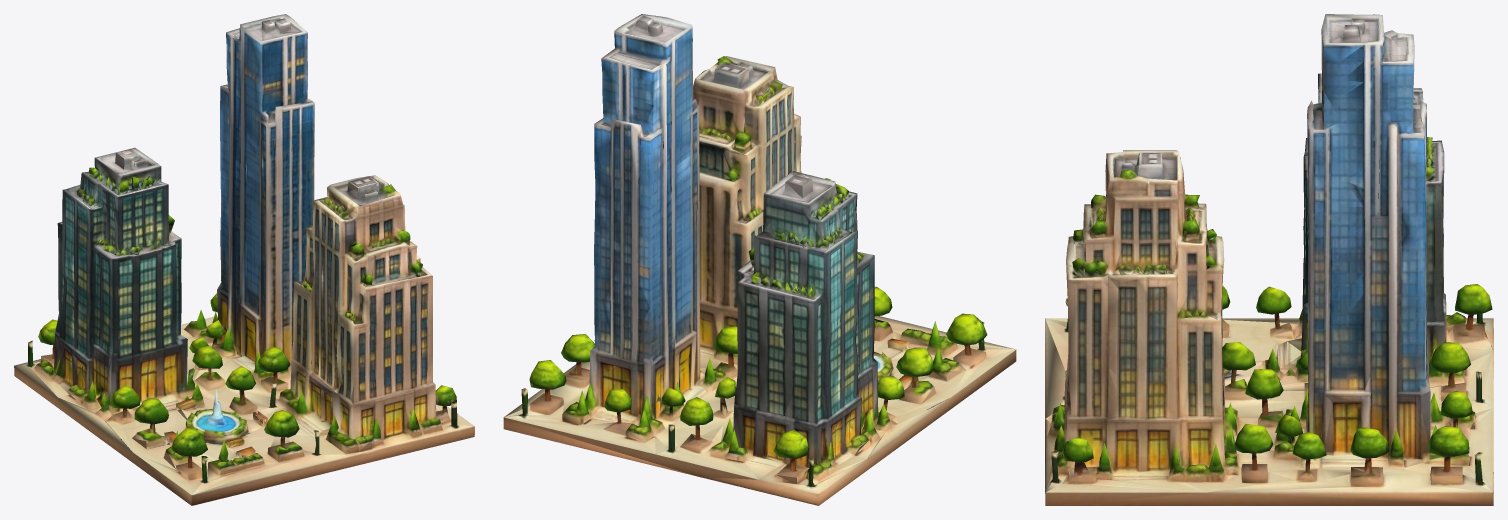
Rendered from block-fidi-a.far.glb.
3 views of the same model, side by side, from view 1: azimuth 30°, elevation 25°; view 2: azimuth 150°, elevation 25°; view 3: azimuth 270°, elevation 25° (orthographic). The views are drawn at different scales.
Parts seen in each view (by area): view 1: low; view 2: low; view 3: low.
Part boxes in pixels (x1=…): low: x1=14, y1=14, x2=474, y2=505; low: x1=503, y1=14, x2=1016, y2=505; low: x1=1045, y1=14, x2=1493, y2=505.
Size of the model in its own units: 0.8434 by 0.98 by 0.9167.
1 material, 1 textured.
